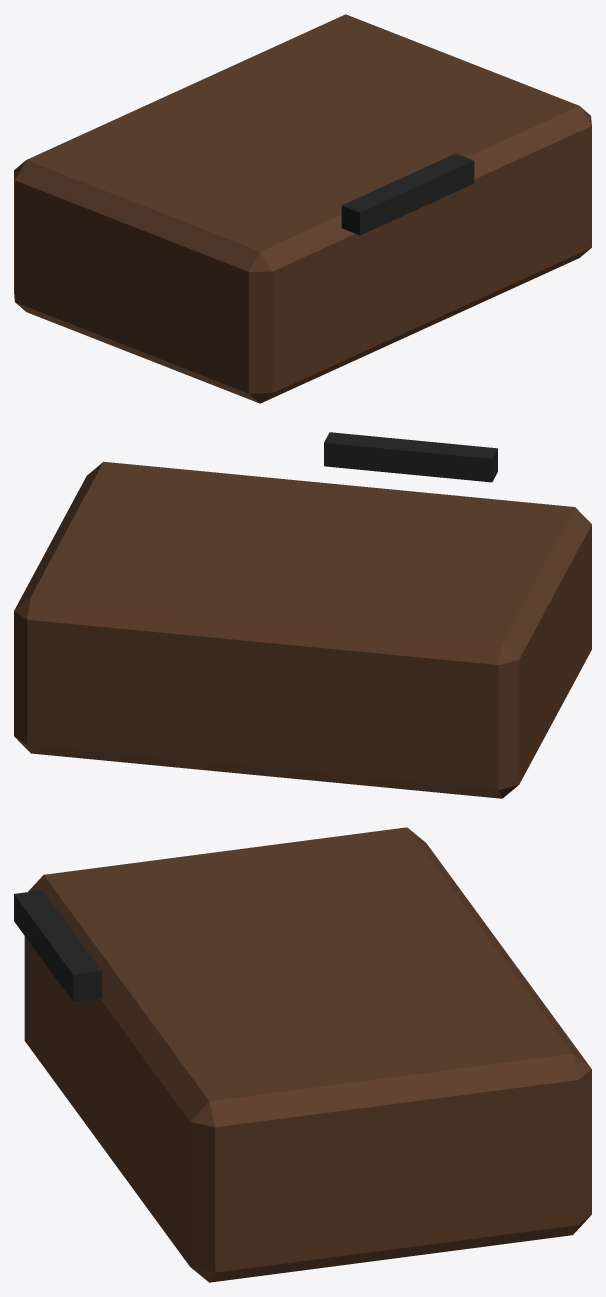
The model's file is suitcase.glb.
3 renders of one model, top to bottom at view 1: azimuth 30°, elevation 25°; view 2: azimuth 150°, elevation 25°; view 3: azimuth 270°, elevation 25°, orthographic. The views are drawn at different scales.
Visible parts, largest first — view 1: Suitcase; view 2: Suitcase; view 3: Suitcase.
Part boxes in pixels (x1,y1,x2,y2): Suitcase: (14, 14, 591, 403); Suitcase: (14, 432, 591, 798); Suitcase: (14, 827, 591, 1282).
Bounding box in the file's own units: 0.6855 × 0.235 × 0.5772.
